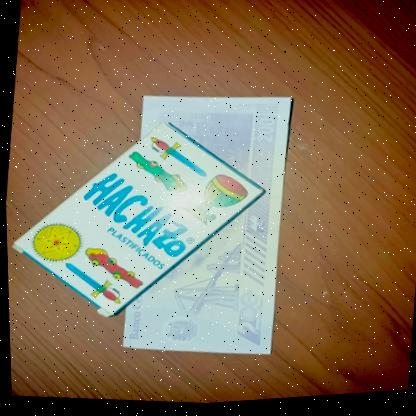two_hundred-back-vef: (113, 86, 296, 364)
